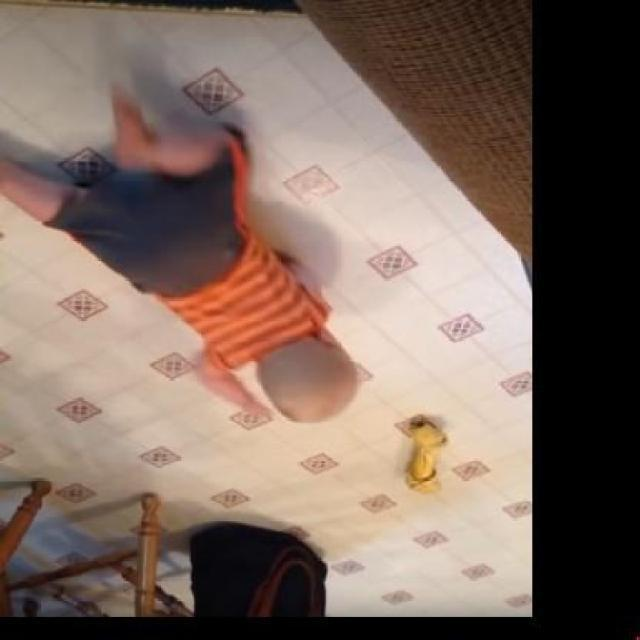baby: (2, 89, 360, 428)
